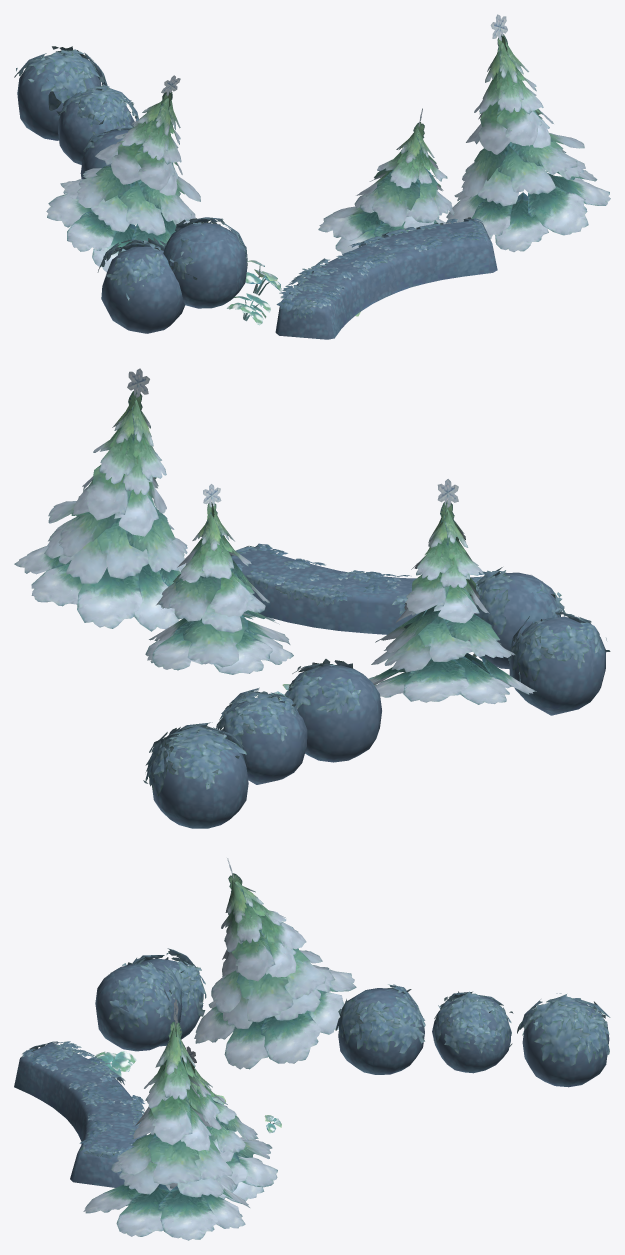
File: pref_sm_beach_bk_winter_pointmol_longplant_L01_lv1.fbx
3 renders of one model, top to bottom at view 1: azimuth 30°, elevation 25°; view 2: azimuth 150°, elevation 25°; view 3: azimuth 270°, elevation 25°, orthographic. The views are drawn at different scales.
Visible parts, largest first — view 1: sm_beach_bk_winter_pointmol_longplant_L01_lv1; view 2: sm_beach_bk_winter_pointmol_longplant_L01_lv1; view 3: sm_beach_bk_winter_pointmol_longplant_L01_lv1.
Part boxes in pixels (box(x1,y1,x2,y2)): sm_beach_bk_winter_pointmol_longplant_L01_lv1: box(14, 14, 610, 339); sm_beach_bk_winter_pointmol_longplant_L01_lv1: box(14, 368, 610, 828); sm_beach_bk_winter_pointmol_longplant_L01_lv1: box(14, 858, 610, 1240).
Bounding box in the file's own units: 21.07 × 10.93 × 21.48.
